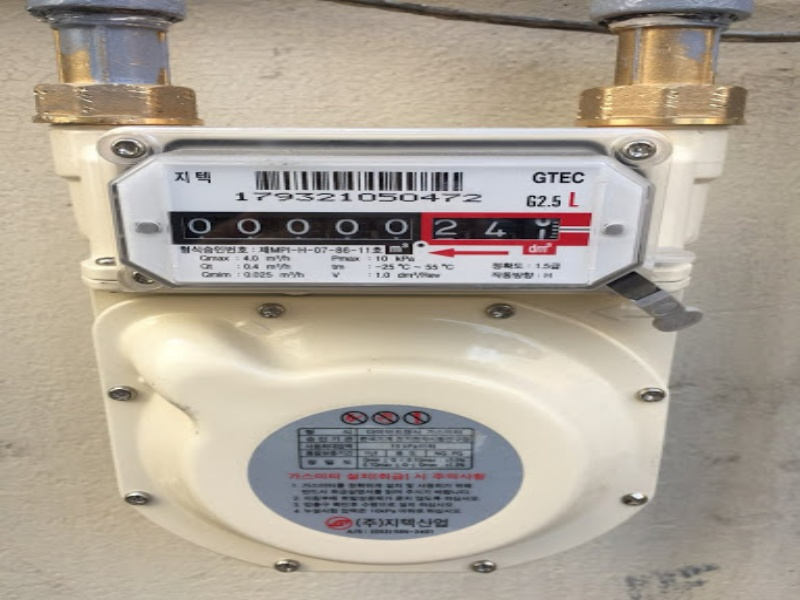meter: (94, 126, 667, 294)
